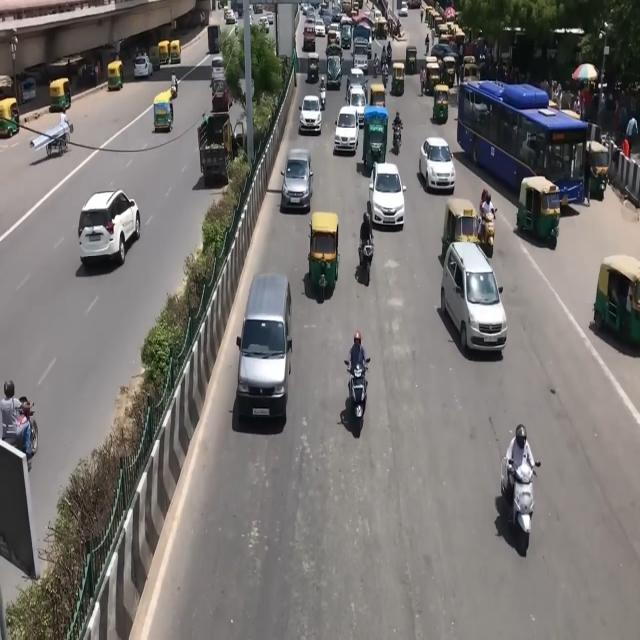auto: (594, 250, 640, 346), (514, 175, 562, 248), (308, 211, 340, 297), (442, 198, 482, 266), (362, 105, 389, 175), (585, 140, 611, 202), (153, 90, 175, 133), (49, 77, 72, 112), (0, 97, 19, 136), (432, 84, 450, 124), (107, 60, 124, 92), (391, 60, 405, 96), (369, 82, 386, 110), (306, 52, 320, 84), (148, 44, 162, 71), (157, 40, 171, 65), (169, 39, 181, 64)
bike-auto: (501, 448, 537, 548), (0, 382, 31, 468), (345, 356, 369, 420), (478, 188, 496, 242), (348, 332, 367, 379), (359, 212, 374, 264), (392, 111, 403, 147), (318, 77, 326, 110), (320, 75, 326, 112), (170, 74, 178, 99), (382, 64, 389, 89), (372, 53, 378, 76)
